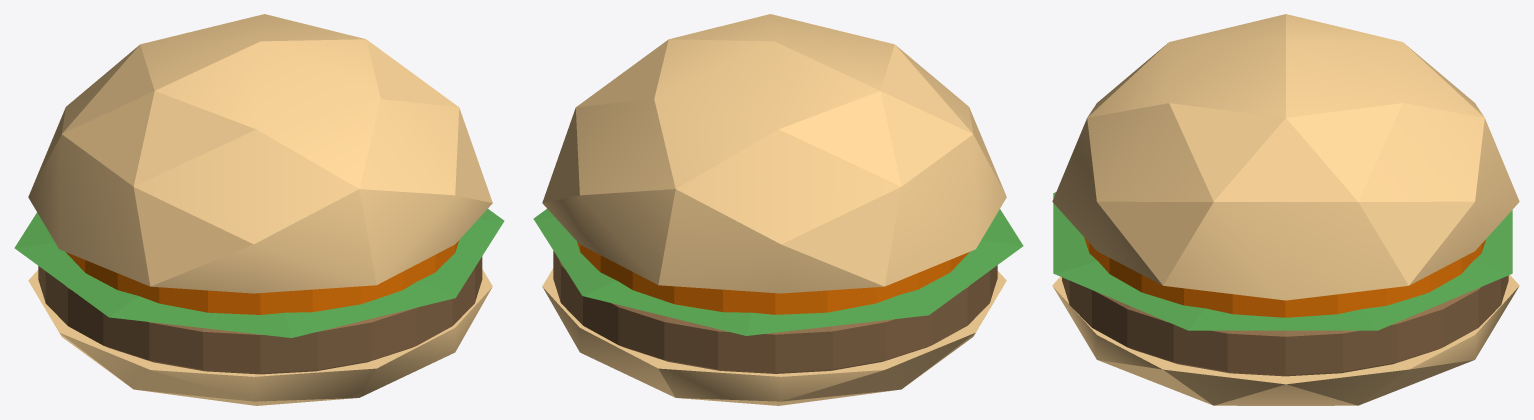
File: Burger 1.glb
3 views of the same model, side by side, from view 1: azimuth 30°, elevation 25°; view 2: azimuth 150°, elevation 25°; view 3: azimuth 270°, elevation 25° (orthographic).
Visible parts, largest first — view 1: Burger 1; view 2: Burger 1; view 3: Burger 1.
Boxes of the visible parts, x1,y1,x2,y2 form: Burger 1: [14, 14, 504, 405]; Burger 1: [533, 14, 1023, 405]; Burger 1: [1052, 14, 1519, 405].
Bounding box in the file's own units: 0.9025 × 0.6902 × 0.9025.
